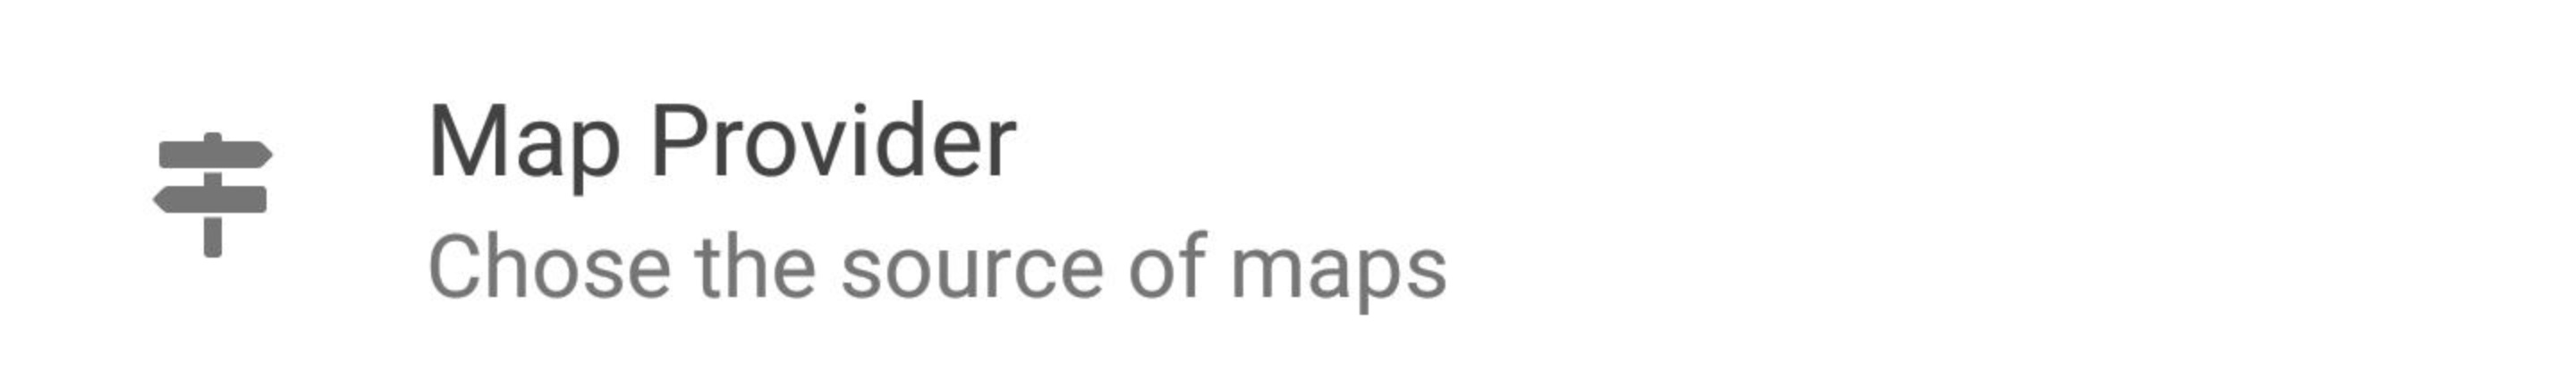CheckedTextView: (2, 2, 2574, 388)
